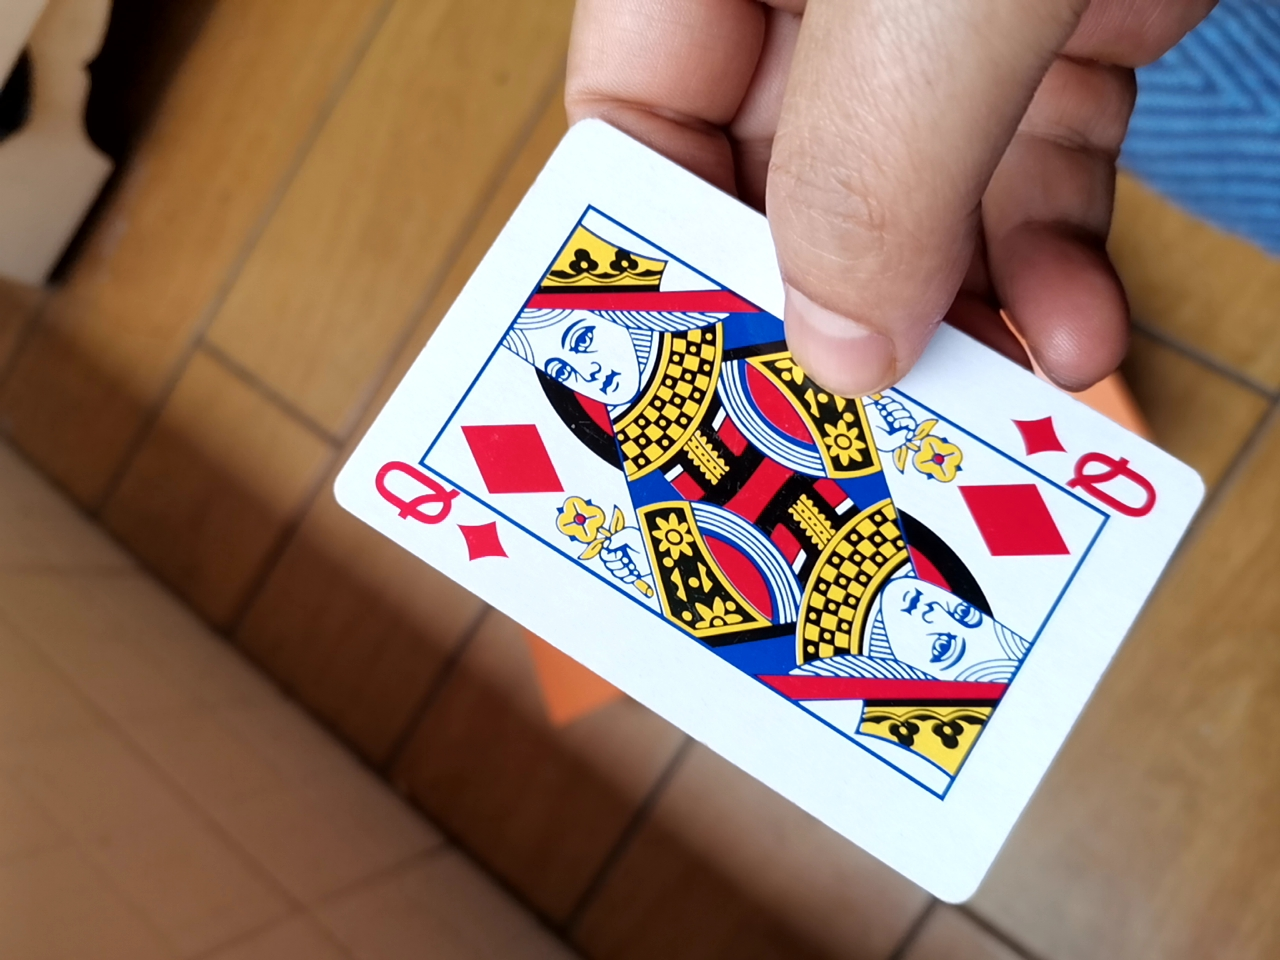fk q: (294, 104, 1199, 921)
